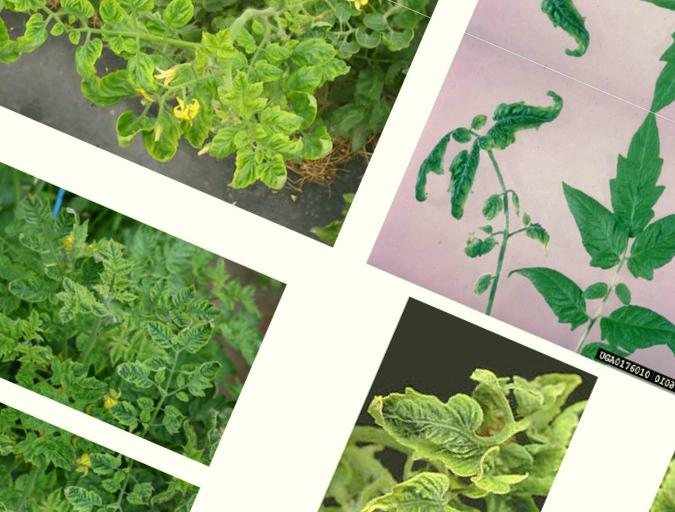Tomato leaf yellow virus: (350, 360, 528, 496), (347, 445, 521, 512), (136, 108, 194, 167), (177, 348, 232, 404), (288, 28, 344, 82), (177, 309, 232, 363), (249, 150, 306, 202), (116, 51, 168, 103), (64, 33, 107, 90), (254, 99, 307, 145), (14, 194, 63, 238), (110, 350, 160, 392), (204, 120, 247, 168), (157, 0, 207, 41), (140, 317, 191, 357), (102, 396, 147, 436), (184, 295, 229, 331), (106, 0, 168, 26), (168, 275, 204, 313), (16, 308, 49, 349), (143, 273, 175, 313), (249, 58, 287, 90), (73, 367, 110, 399), (94, 0, 134, 29), (53, 294, 83, 331), (228, 69, 260, 100), (214, 88, 246, 118), (86, 297, 117, 324), (193, 31, 222, 57), (216, 45, 246, 69), (0, 327, 18, 365), (112, 258, 134, 280), (61, 277, 85, 297), (0, 307, 5, 336)
